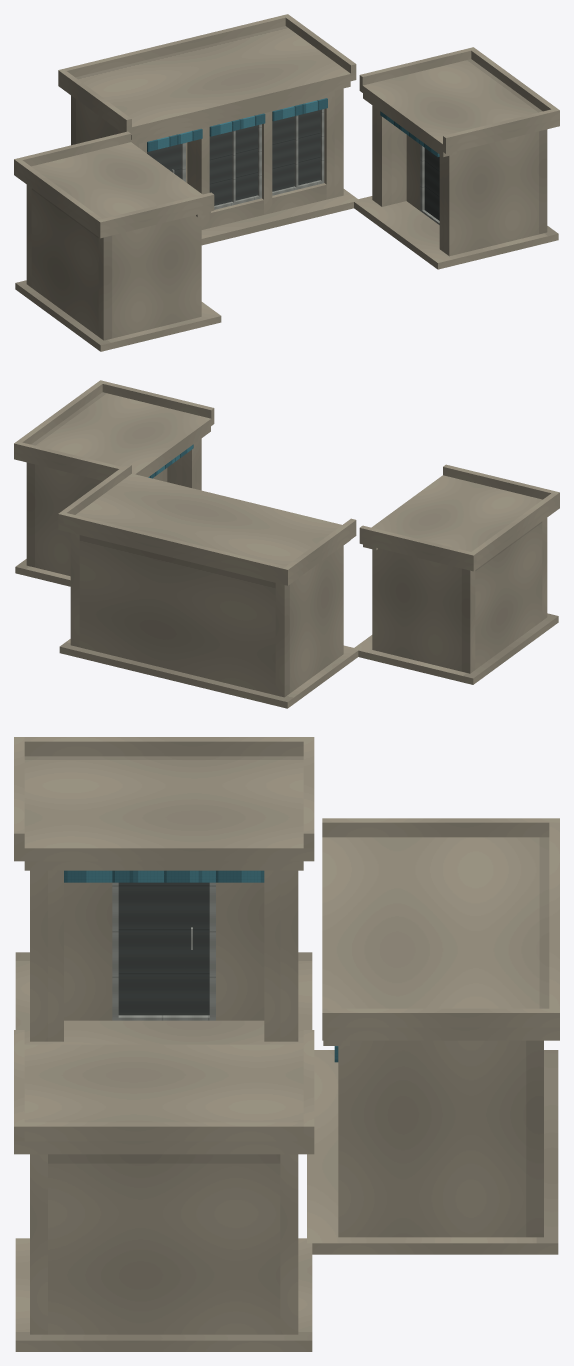
The model's file is tehran.glb.
The picture shows the model from 3 angles, top to bottom: view 1: azimuth 30°, elevation 25°; view 2: azimuth 150°, elevation 25°; view 3: azimuth 270°, elevation 25°; orthographic projection. The views are drawn at different scales.
Parts seen in each view (by area): view 1: tehran; view 2: tehran; view 3: tehran.
Boxes of the visible parts, <box> form: tehran: <box>14,14,559,351</box>; tehran: <box>14,380,559,708</box>; tehran: <box>14,737,559,1351</box>.
Bounding box in the file's own units: 8.6 × 2.49 × 5.09.
1 material, 1 textured.
